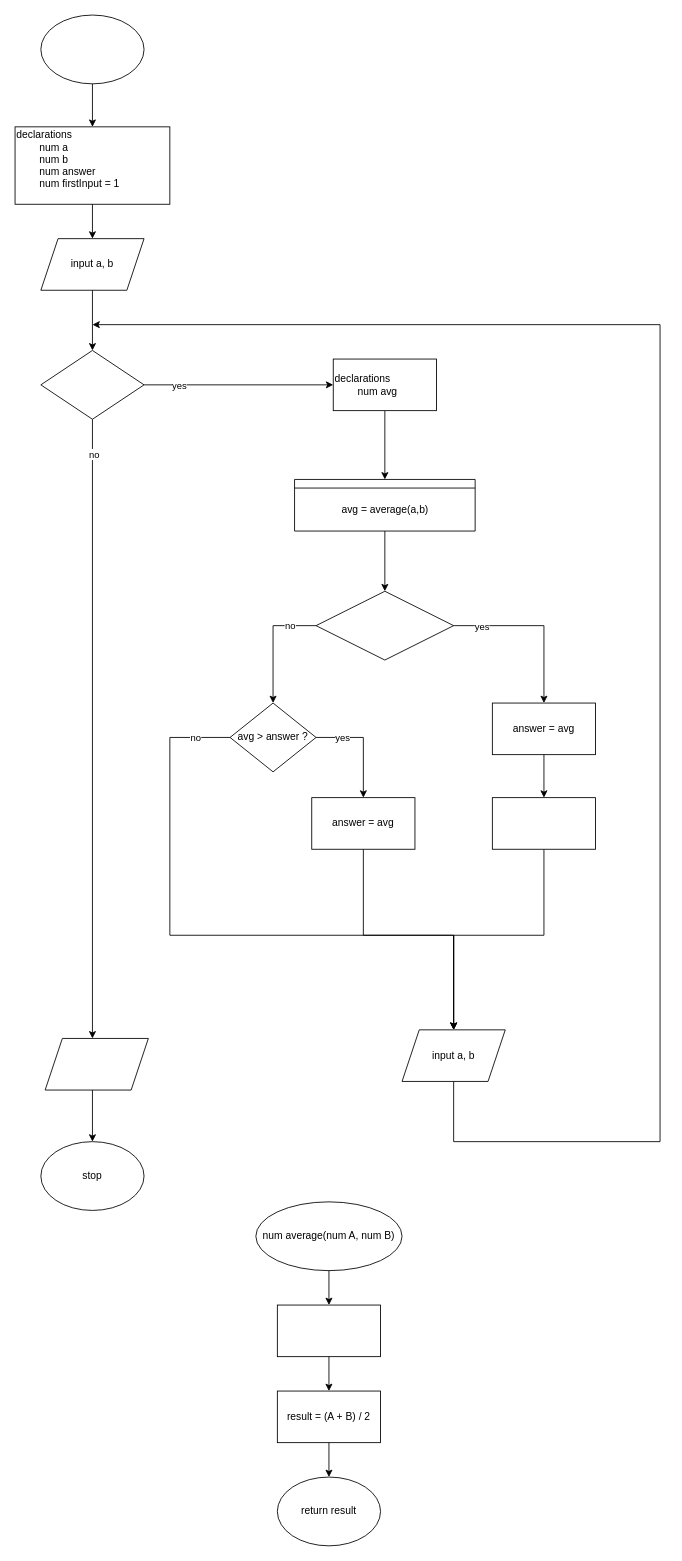
Some shapes in this 682 by 1561 pixel diagram are drawn without their labels. The centre of each missing label's shape, as x and y in pixels:
a != 0 or b != 0: the point at 92,384
declarations num result: the point at 328,1330
firstInput = 0: the point at 543,823
firstInput = 1 ?: the point at 384,625
output answer: the point at 96,1064
start: the point at 92,49
